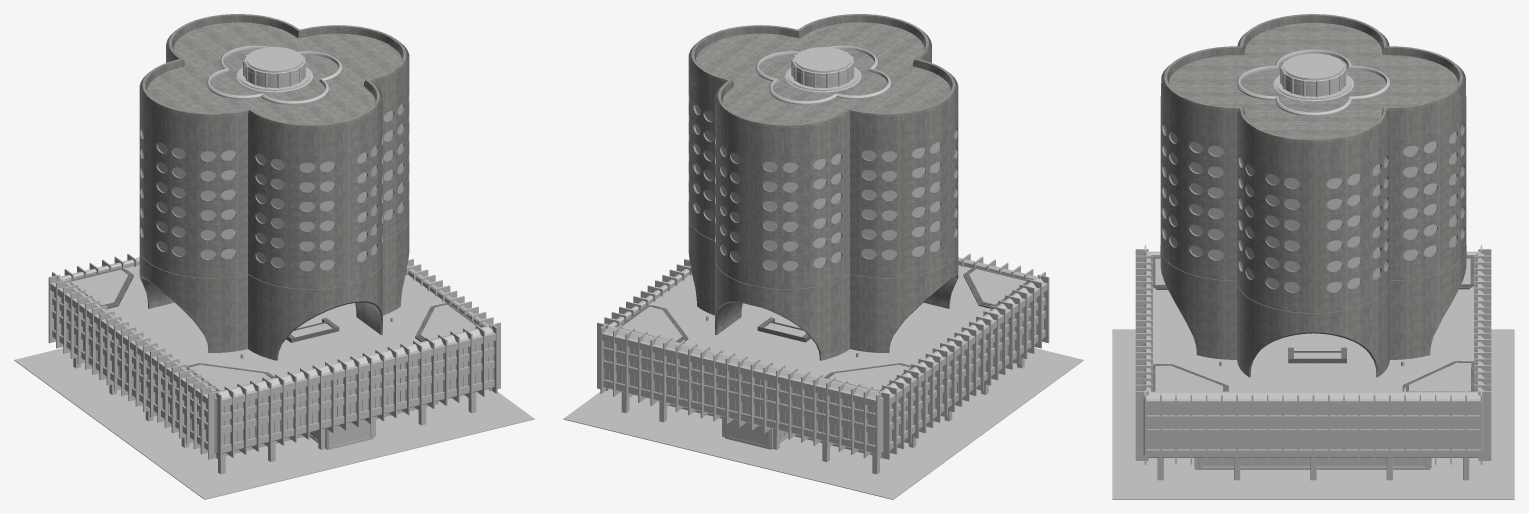
Rendered from Kitbash3D_Brutalist_Building_Large04.fbx.
3 views of the same model, side by side, from view 1: azimuth 30°, elevation 25°; view 2: azimuth 150°, elevation 25°; view 3: azimuth 270°, elevation 25° (orthographic). The views are drawn at different scales.
Parts seen in each view (by area): view 1: L_Bldg_A_Bldg_Parts, L_Bldg_A_MainBldg_Mid, L_Bldg_A_MainBldg_top, L_Bldg_A_Sidewalk, L_Bldg_A_MainBldg_BASE, L_Bldg_A_Windows, L_Bldg_A_Base_Roof, L_Bldg_A_MainBldg_Caps, L_Bldg_A_Mullion_All, L_Bldg_A_Street_Offices, L_Bldg_A_Water, L_Bldg_A_Ext_Details_Props; view 2: L_Bldg_A_Bldg_Parts, L_Bldg_A_MainBldg_Mid, L_Bldg_A_MainBldg_top, L_Bldg_A_Sidewalk, L_Bldg_A_MainBldg_BASE, L_Bldg_A_Windows, L_Bldg_A_Base_Roof, L_Bldg_A_MainBldg_Caps, L_Bldg_A_Mullion_All, L_Bldg_A_Street_Offices, L_Bldg_A_Water, L_Bldg_A_Ext_Details_Props; view 3: L_Bldg_A_MainBldg_Mid, L_Bldg_A_MainBldg_top, L_Bldg_A_Bldg_Parts, L_Bldg_A_Sidewalk, L_Bldg_A_Windows, L_Bldg_A_MainBldg_BASE, L_Bldg_A_Base_Roof, L_Bldg_A_MainBldg_Caps, L_Bldg_A_Street_Offices, L_Bldg_A_Mullion_All, L_Bldg_A_Water, L_Bldg_A_Ext_Details_Props.
Boxes of the visible parts, x1,y1,x2,y2 form: L_Bldg_A_Bldg_Parts: (48, 45, 500, 474); L_Bldg_A_MainBldg_Mid: (139, 88, 409, 275); L_Bldg_A_MainBldg_top: (139, 14, 409, 144); L_Bldg_A_Sidewalk: (14, 348, 534, 499); L_Bldg_A_MainBldg_BASE: (139, 219, 409, 360); L_Bldg_A_Windows: (54, 103, 493, 445); L_Bldg_A_Base_Roof: (107, 265, 445, 376); L_Bldg_A_MainBldg_Caps: (139, 61, 409, 289); L_Bldg_A_Mullion_All: (53, 292, 494, 455); L_Bldg_A_Street_Offices: (54, 257, 493, 455); L_Bldg_A_Water: (71, 269, 475, 390); L_Bldg_A_Ext_Details_Props: (70, 268, 481, 391); L_Bldg_A_Bldg_Parts: (597, 45, 1049, 474); L_Bldg_A_MainBldg_Mid: (688, 88, 958, 275); L_Bldg_A_MainBldg_top: (688, 14, 958, 144); L_Bldg_A_Sidewalk: (563, 348, 1083, 499); L_Bldg_A_MainBldg_BASE: (688, 219, 958, 360); L_Bldg_A_Windows: (604, 104, 1043, 445); L_Bldg_A_Base_Roof: (649, 265, 990, 377); L_Bldg_A_MainBldg_Caps: (688, 61, 958, 289); L_Bldg_A_Mullion_All: (603, 292, 1044, 454); L_Bldg_A_Street_Offices: (604, 257, 1043, 455); L_Bldg_A_Water: (622, 269, 1026, 390); L_Bldg_A_Ext_Details_Props: (617, 267, 1026, 391); L_Bldg_A_MainBldg_Mid: (1160, 110, 1466, 298); L_Bldg_A_MainBldg_top: (1161, 14, 1465, 160); L_Bldg_A_Bldg_Parts: (1135, 49, 1491, 480); L_Bldg_A_Sidewalk: (1112, 329, 1514, 499); L_Bldg_A_Windows: (1146, 124, 1480, 466); L_Bldg_A_MainBldg_BASE: (1160, 249, 1466, 377); L_Bldg_A_Base_Roof: (1153, 286, 1473, 391); L_Bldg_A_MainBldg_Caps: (1160, 96, 1466, 313); L_Bldg_A_Street_Offices: (1142, 251, 1484, 469); L_Bldg_A_Mullion_All: (1146, 408, 1480, 469); L_Bldg_A_Water: (1155, 258, 1471, 391); L_Bldg_A_Ext_Details_Props: (1152, 256, 1474, 391).
Size of the model in its own units: 57.04 by 54.66 by 57.04.
